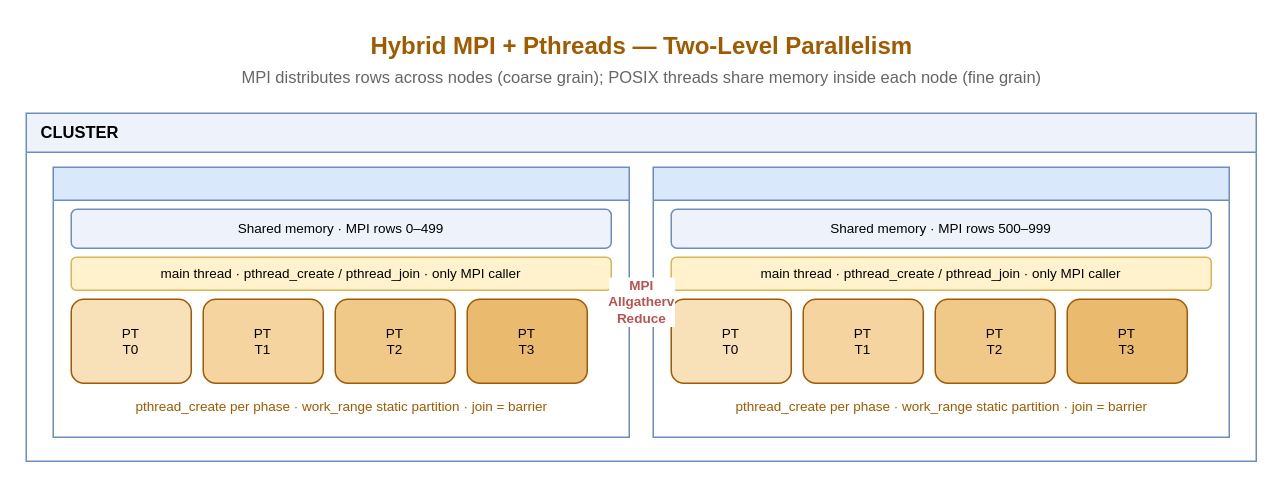
This 1283x488 diagram has some shape labels left out. Each missing label, with the box of its shape:
Node 0 — MPI Rank 0 (private address space): (52, 166, 629, 437)
Node 1 — MPI Rank 1 (private address space): (652, 166, 1229, 437)
